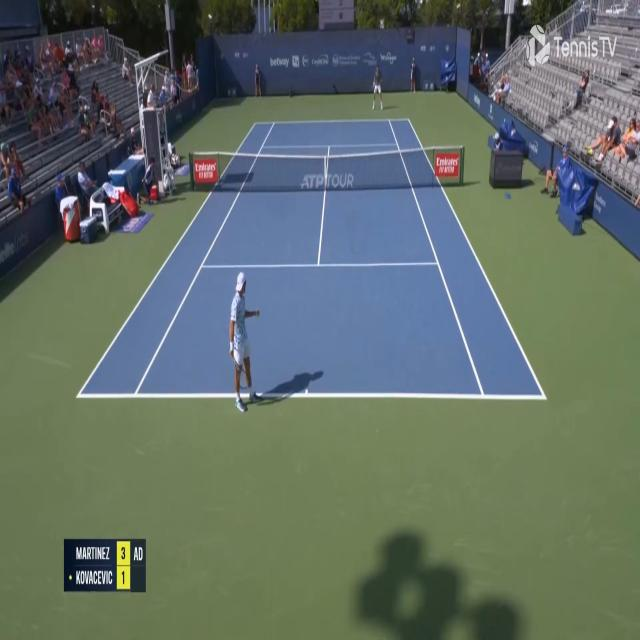tennis-player: (228, 270, 260, 415), (371, 64, 384, 111)
